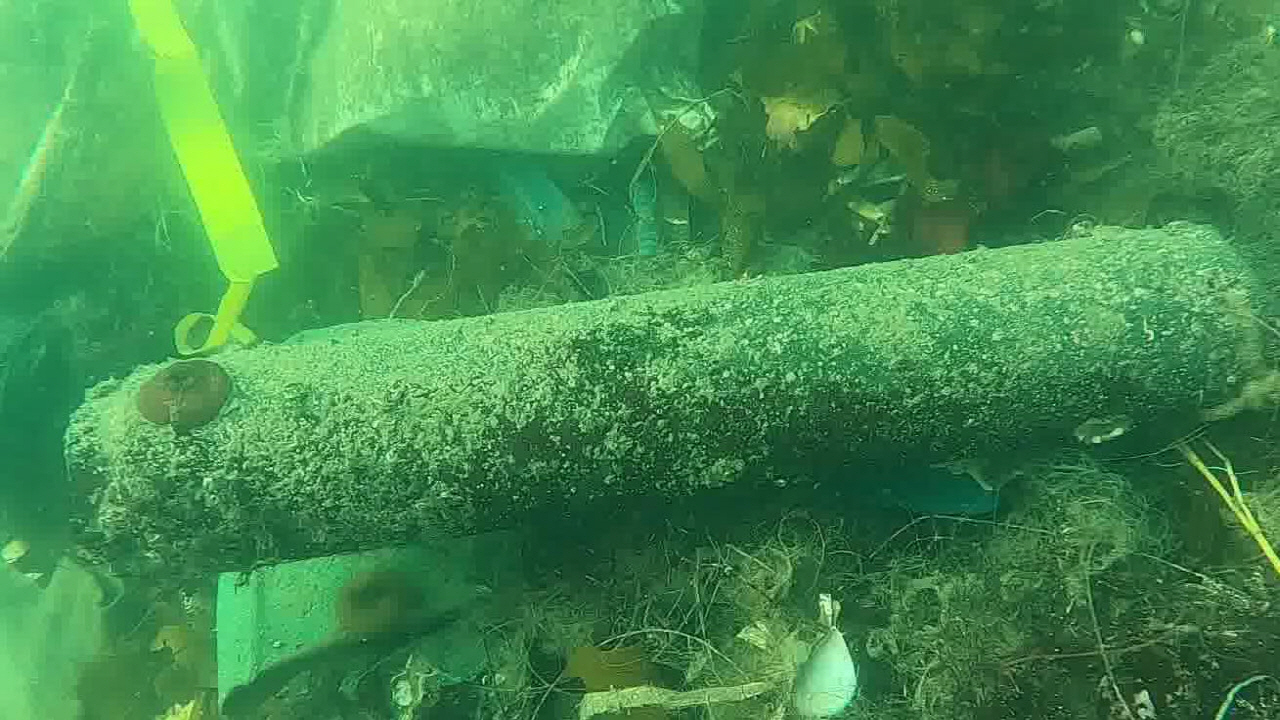eel fish trap: (62, 222, 1279, 574)
